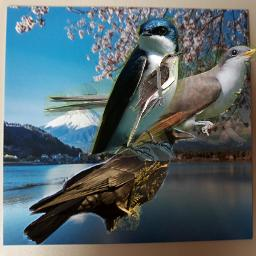Crow: (23, 117, 197, 250)
Cuckoo: (44, 45, 256, 154), (127, 52, 183, 147)
Swallow: (91, 15, 185, 161)
